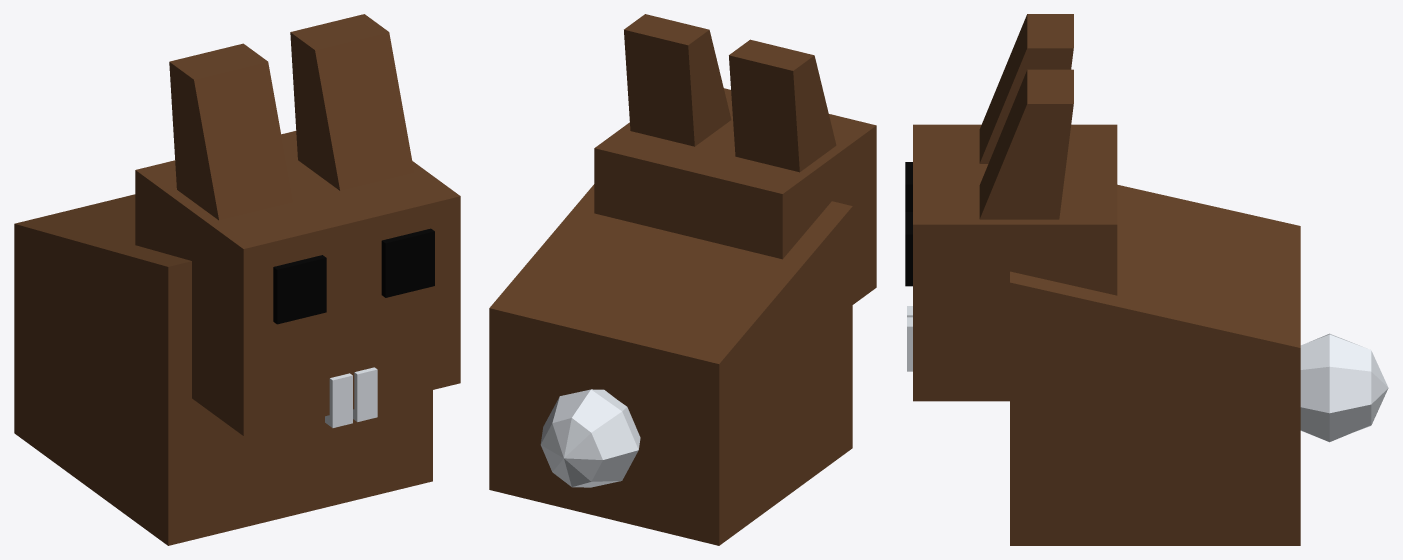
The model's file is Bunny 1.fbx.
3 views of the same model, side by side, from view 1: azimuth 30°, elevation 25°; view 2: azimuth 150°, elevation 25°; view 3: azimuth 270°, elevation 25° (orthographic). The views are drawn at different scales.
Parts seen in each view (by area): view 1: Rabbit; view 2: Rabbit; view 3: Rabbit.
Part boxes in pixels (bbox=[...]): Rabbit: bbox=[14, 14, 460, 545]; Rabbit: bbox=[489, 14, 876, 545]; Rabbit: bbox=[905, 14, 1388, 545].
Size of the model in its own units: 199 by 323 by 332.
